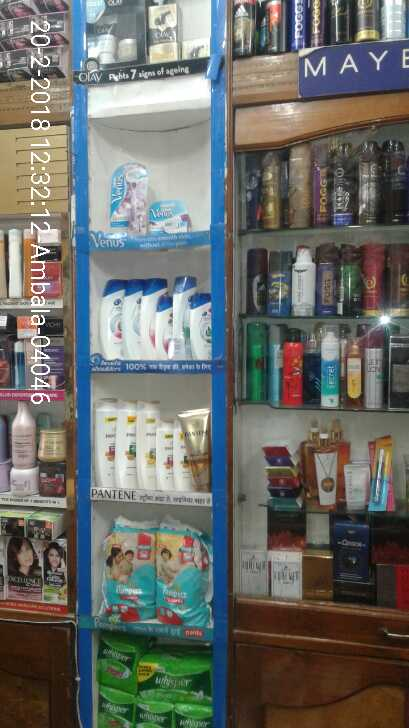venus: (110, 163, 147, 233), (147, 201, 190, 233)
